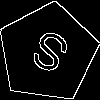S: (23, 28, 73, 84)
